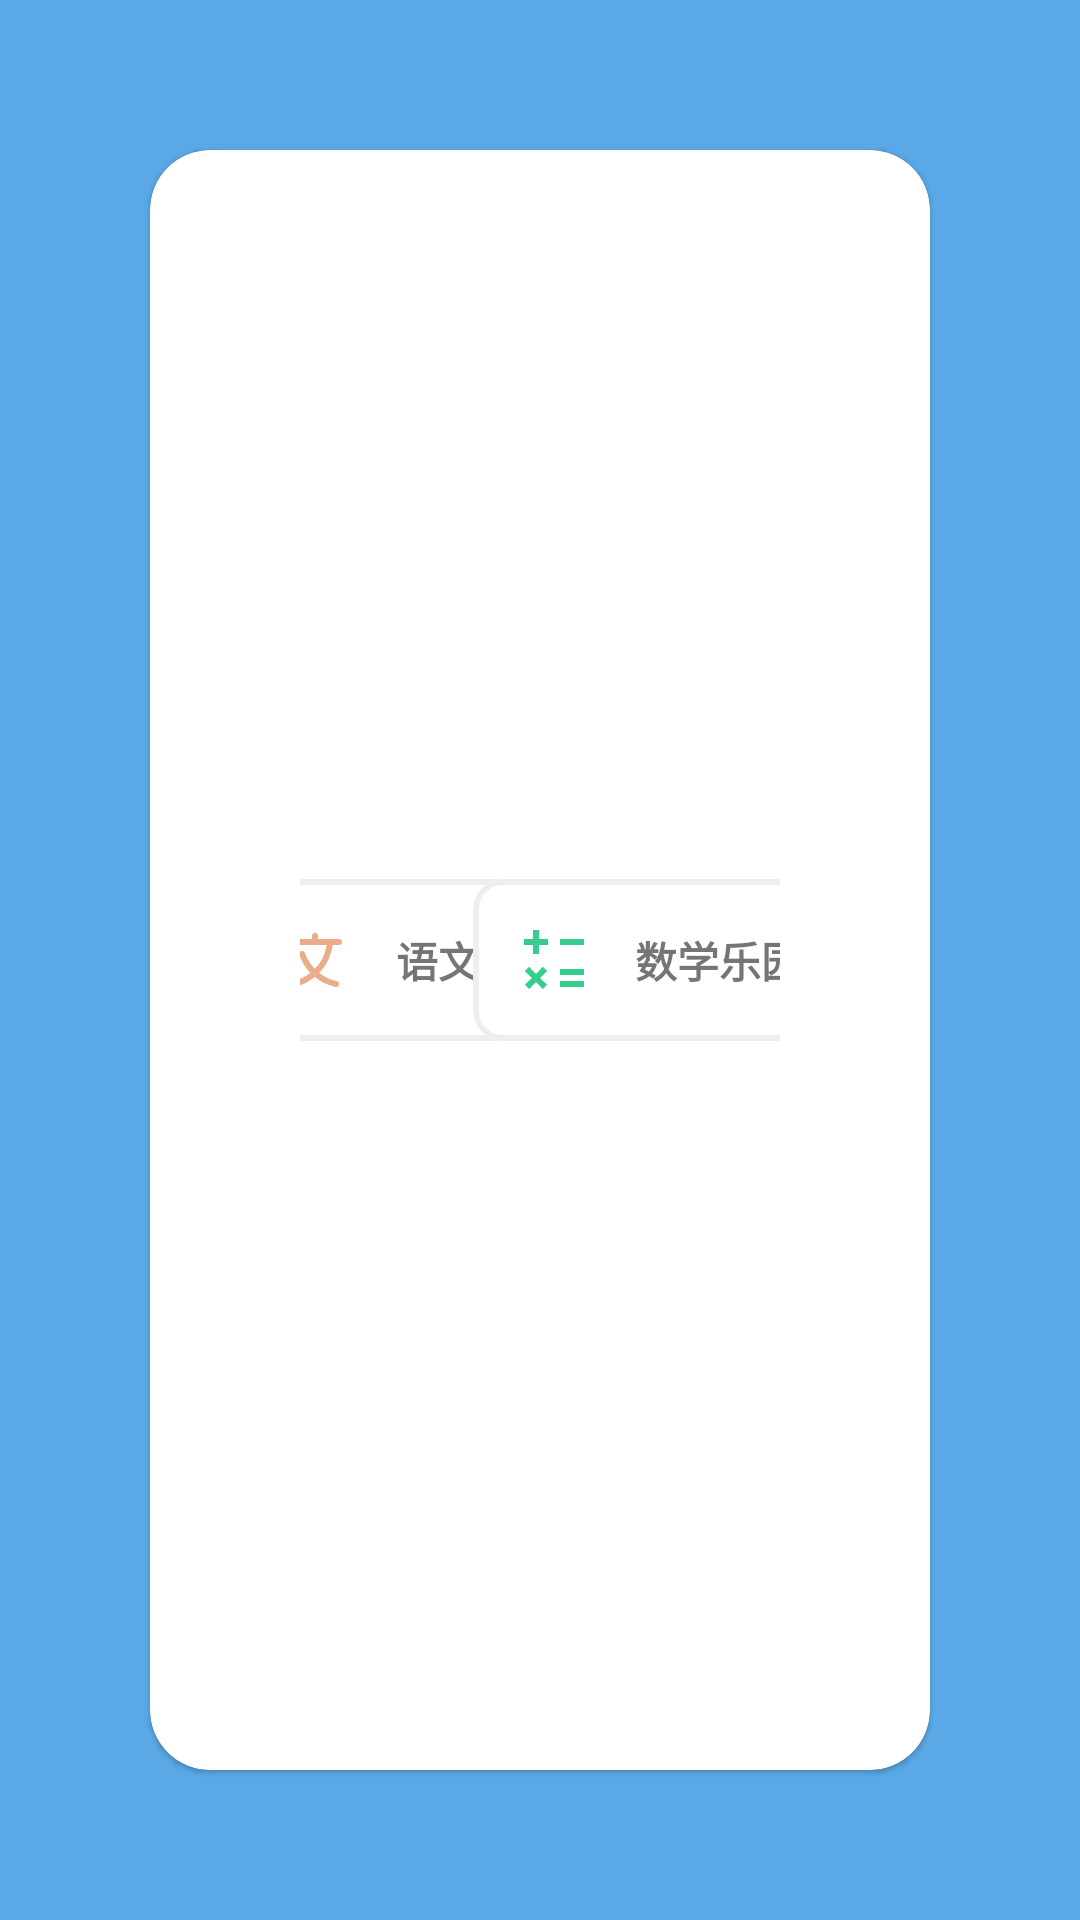

Named icons in this screenshot (1080 x 1920) and their bounding boxes, {"x1": x1, "y1": y1, "x2": x2, "y2": y2}:
bxmath: {"x1": 524, "y1": 930, "x2": 584, "y2": 989}
uilletterchinesea: {"x1": 300, "y1": 933, "x2": 342, "y2": 987}
